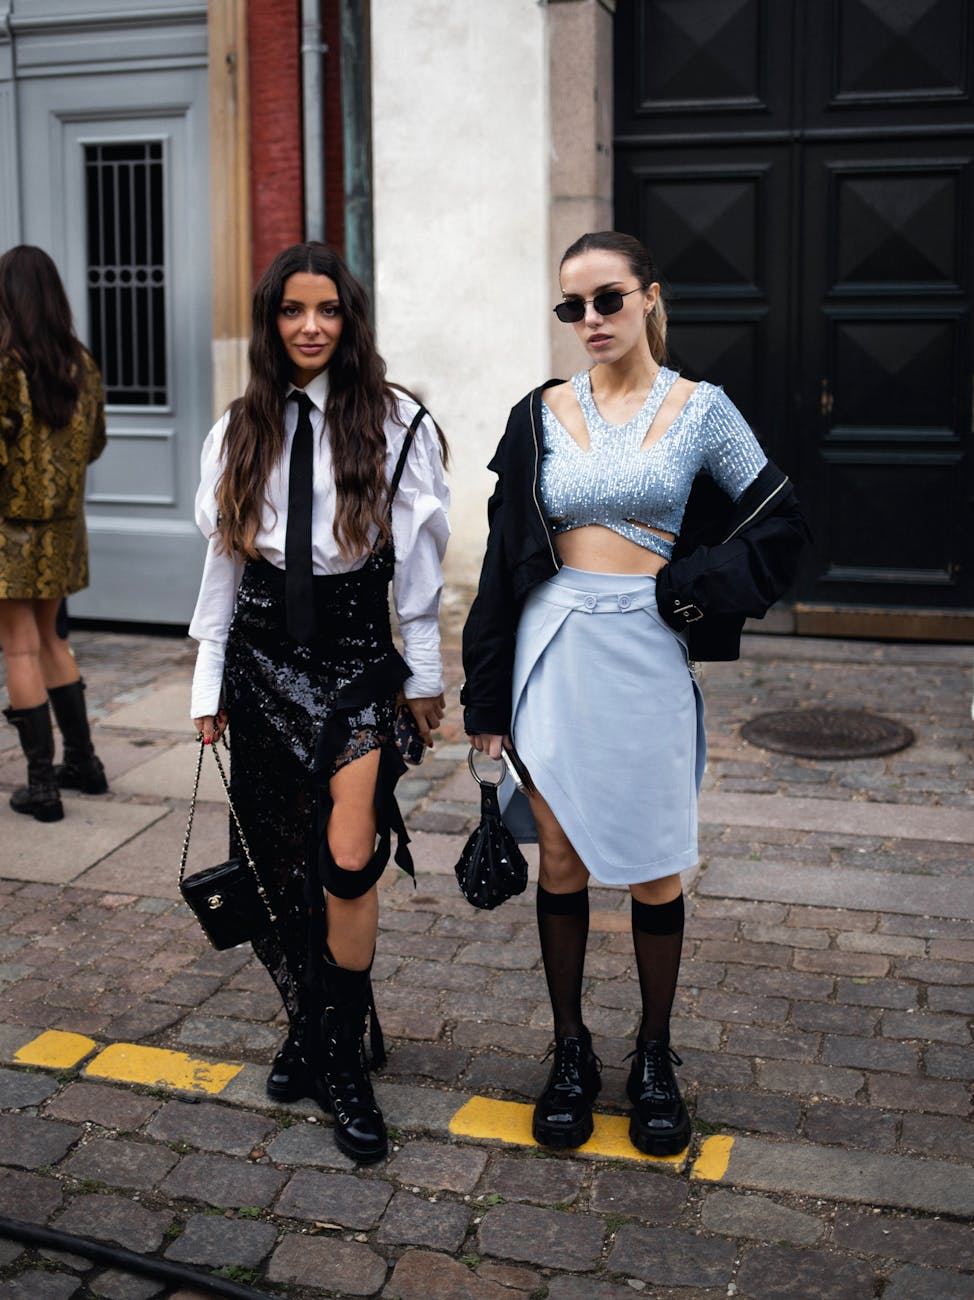crop_top: (518, 370, 742, 556)
short_medium_skirt: (486, 568, 724, 879)
